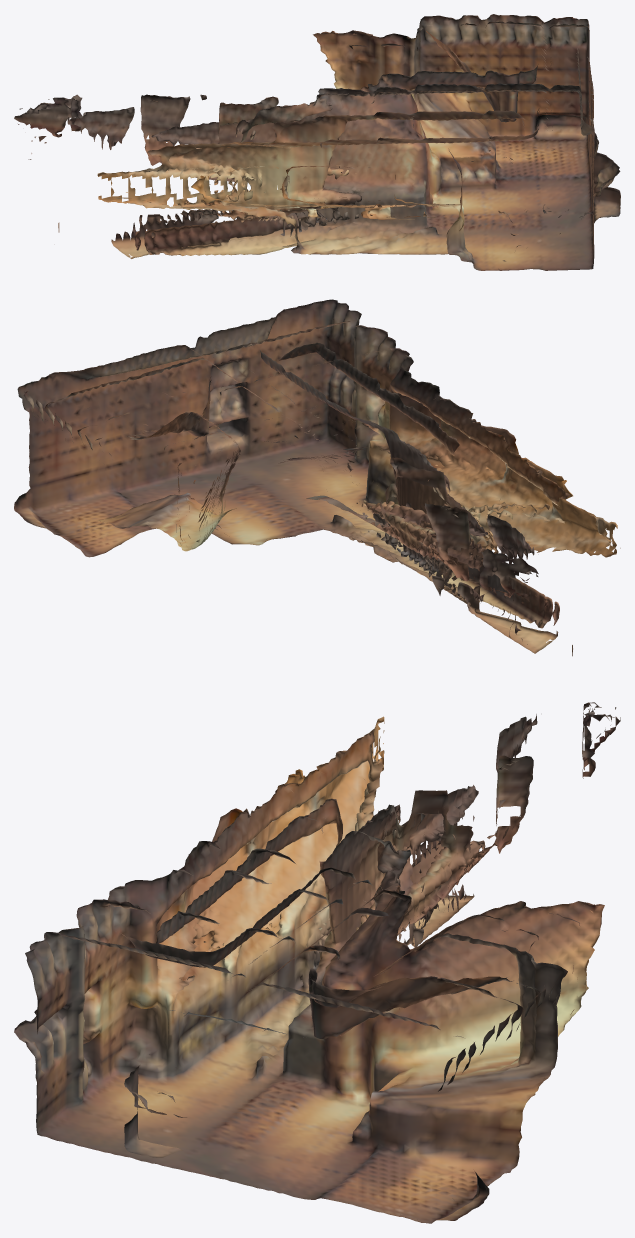
File: Spirited Away Boiler Room_collider.glb
3 views of the same model, one above another, from view 1: azimuth 30°, elevation 25°; view 2: azimuth 150°, elevation 25°; view 3: azimuth 270°, elevation 25° (orthographic). The views are drawn at different scales.
Parts seen in each view (by area): view 1: world; view 2: world; view 3: world.
Boxes of the visible parts, bbox=[...] form: world: bbox=[14, 14, 620, 270]; world: bbox=[14, 299, 620, 656]; world: bbox=[14, 702, 620, 1223].
Bounding box in the file's own units: 11.59 × 2.82 × 8.06.
